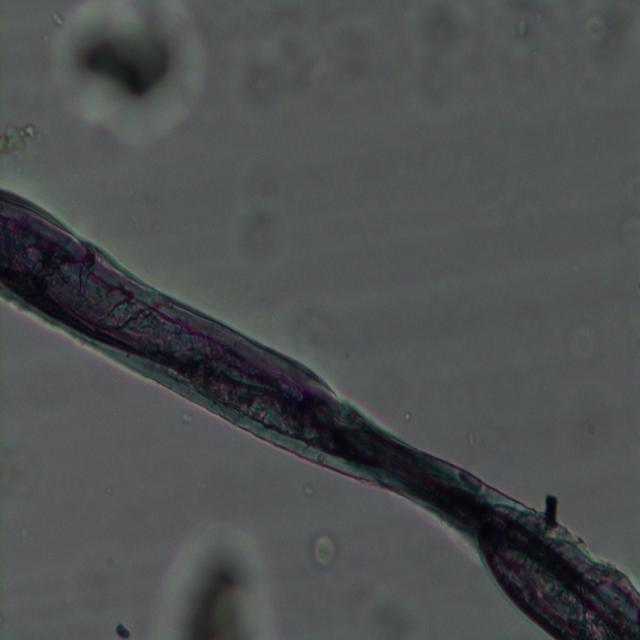Background material: (49, 4, 219, 159), (159, 519, 281, 640), (234, 16, 382, 111), (403, 4, 485, 121), (225, 197, 289, 277), (355, 576, 429, 640), (576, 1, 634, 76), (509, 9, 560, 48), (4, 118, 40, 163), (311, 525, 343, 566), (106, 613, 139, 640)
Cotton: (0, 184, 640, 640)
